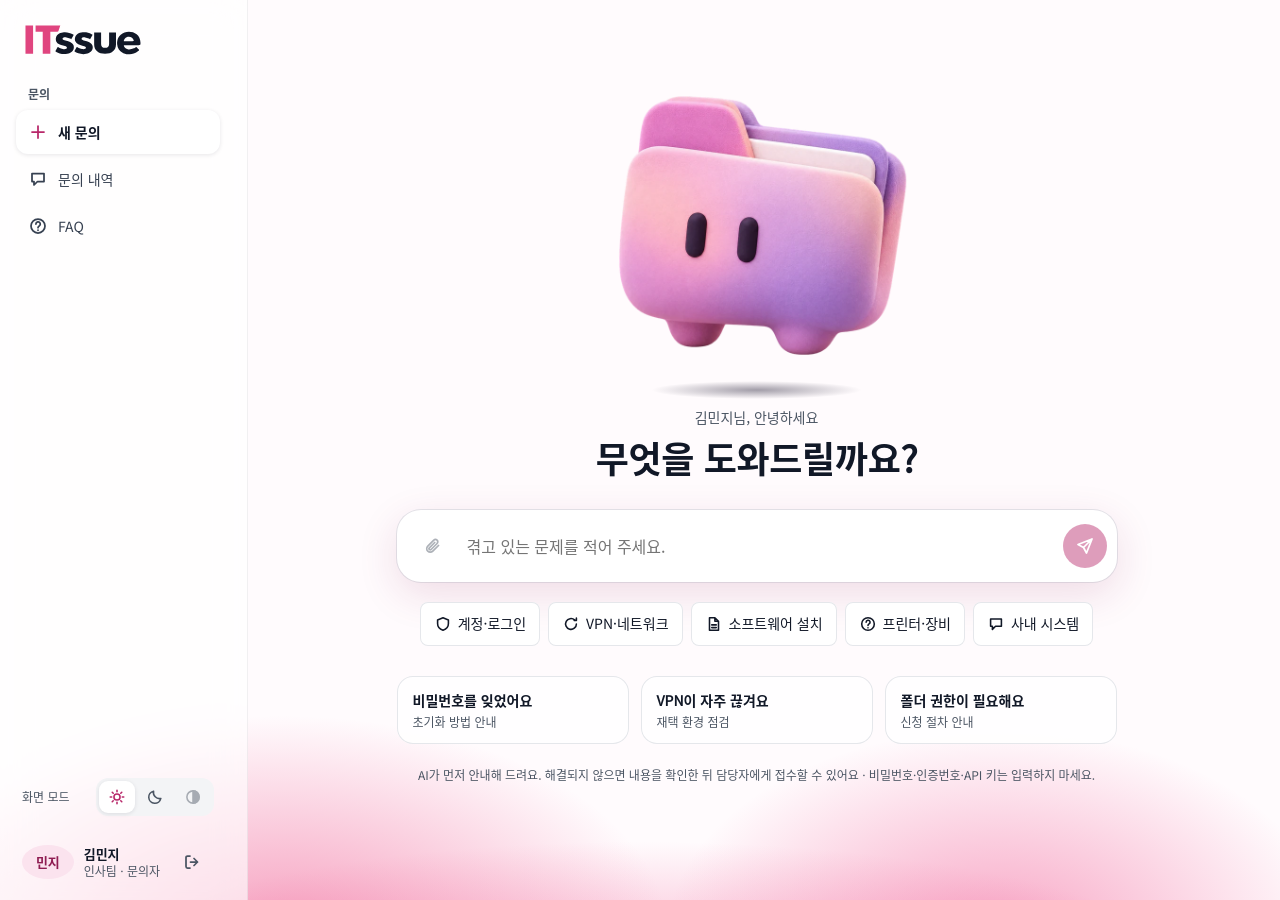
Test: 대화 화면 › 안내를 받고 해결을 누르면 AI 해결 안내가 보이고 입력창은 상태만 안내한다 (이어갈 수 없다)
Type "VPN이 자꾸 끊겨요. 어제부터 안 돼요. 저만 안 되고 메일 업무는 가능해요. 재접속해 봤어요." into the text box named "메시지 입력".
click(758, 546); type("VPN이 자꾸 끊겨요. 어제부터 안 돼요. 저만 안 되고 메일 업무는 가능해요. 재접속해 봤어요.")  # box [460, 524, 1056, 568]
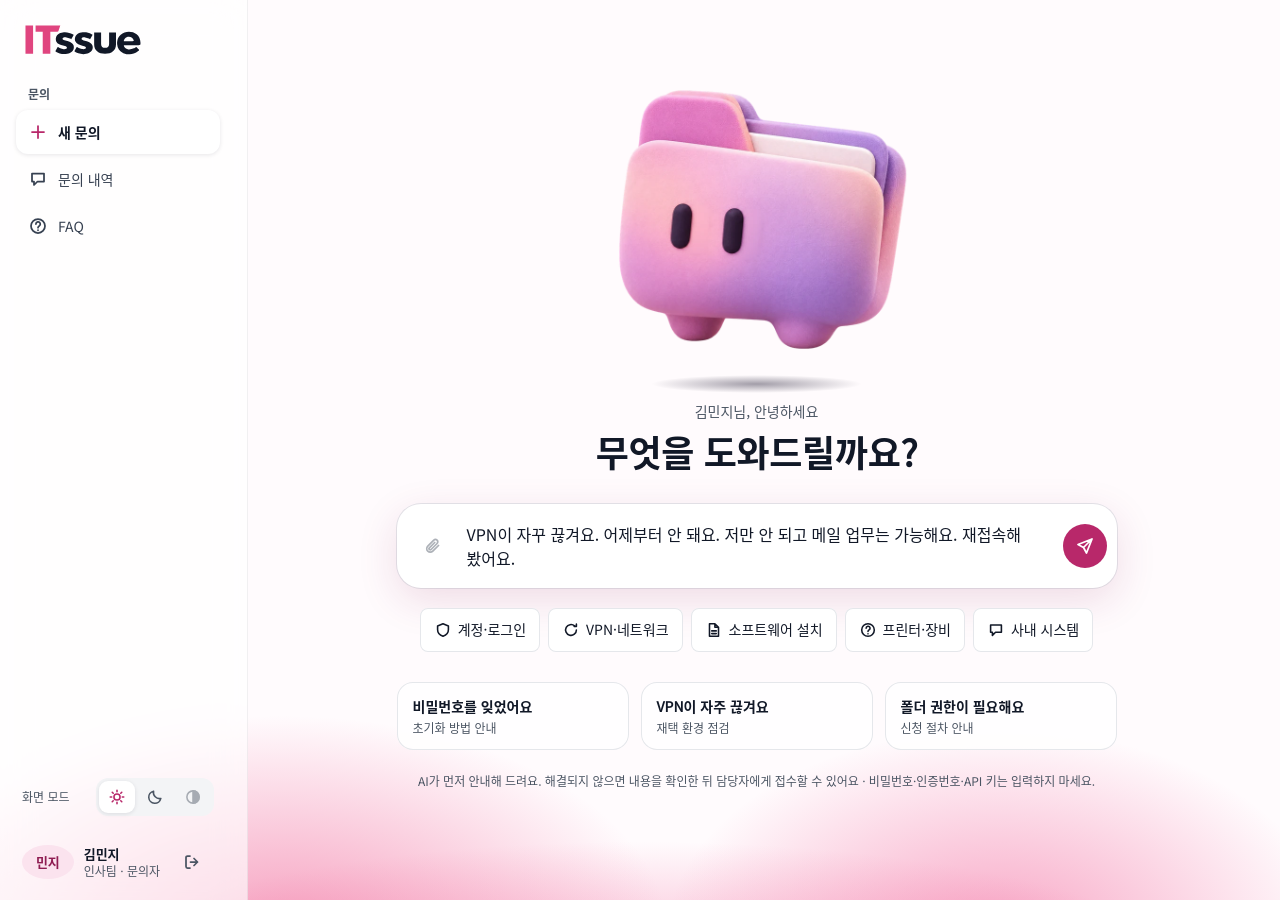
Click the button named "보내기".
click(1084, 546)  # box [1062, 524, 1106, 568]
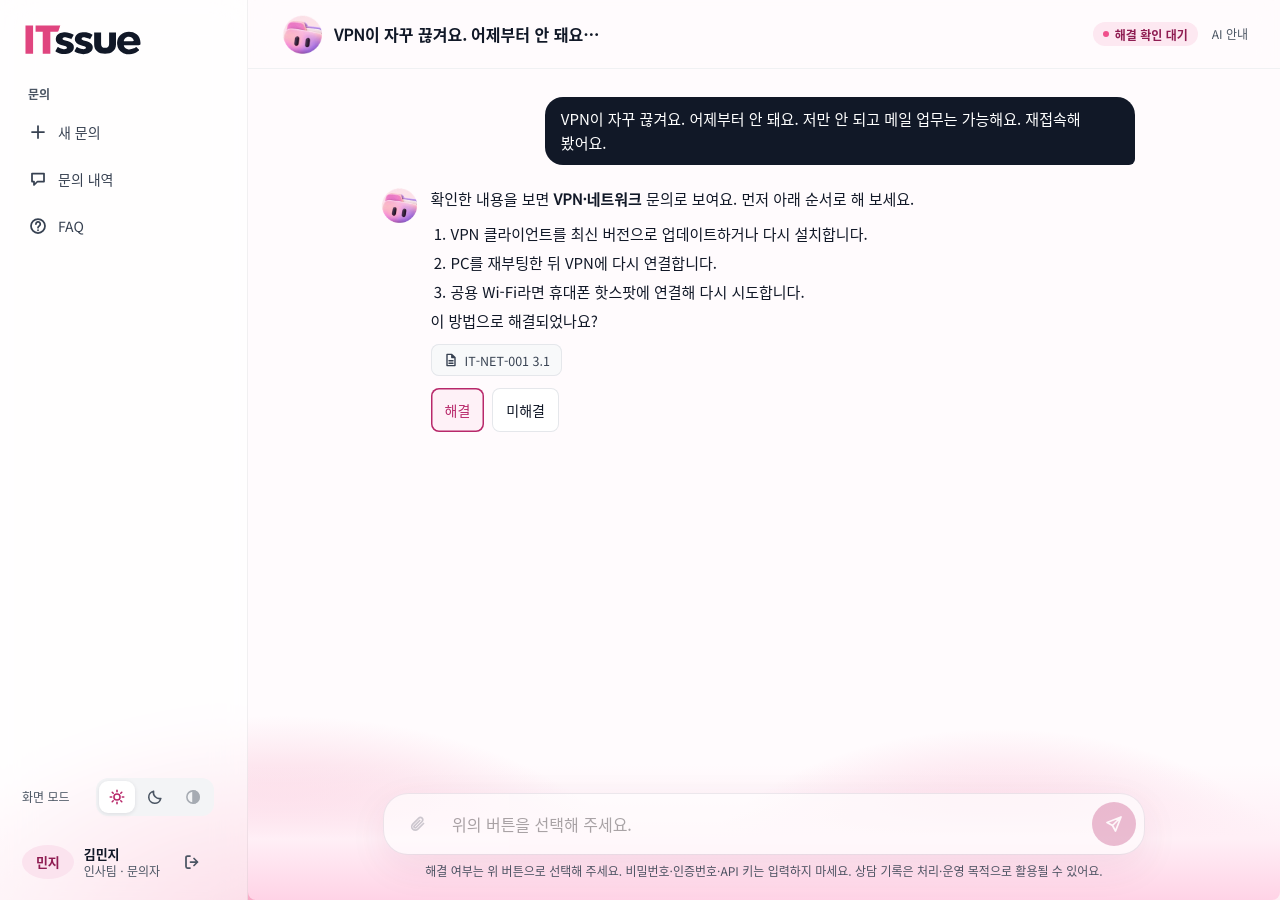
expect the button "IT-NET-001 3.1" is shown: met, box [430, 344, 562, 376]
Click the button "해결".
click(457, 410)  # box [430, 388, 484, 432]
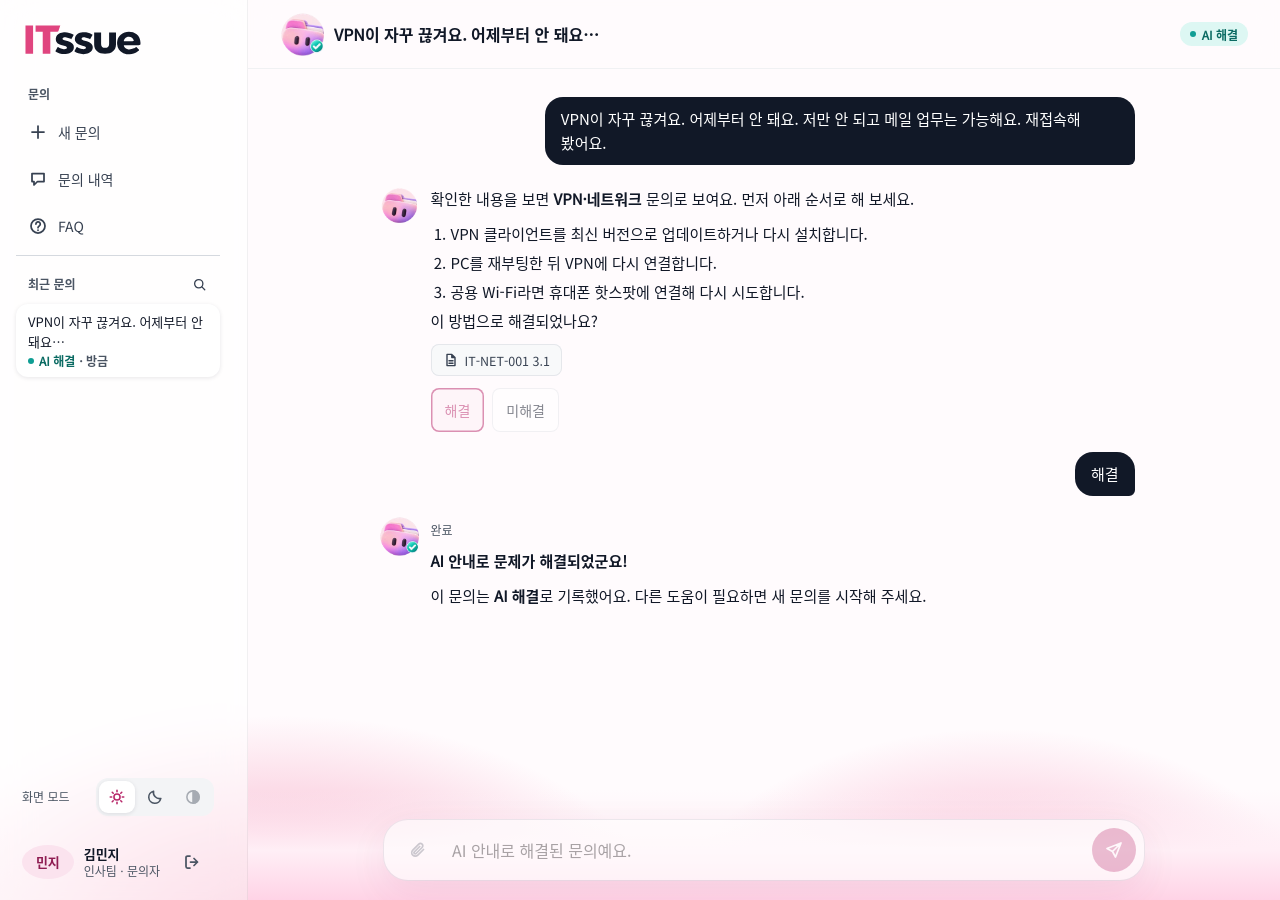
expect the text box named "메시지 입력" is disabled: met, box [446, 828, 1086, 872]
expect the text "AI 안내로 문제가 해결되었군요!" is shown: met, box [430, 550, 627, 571]
